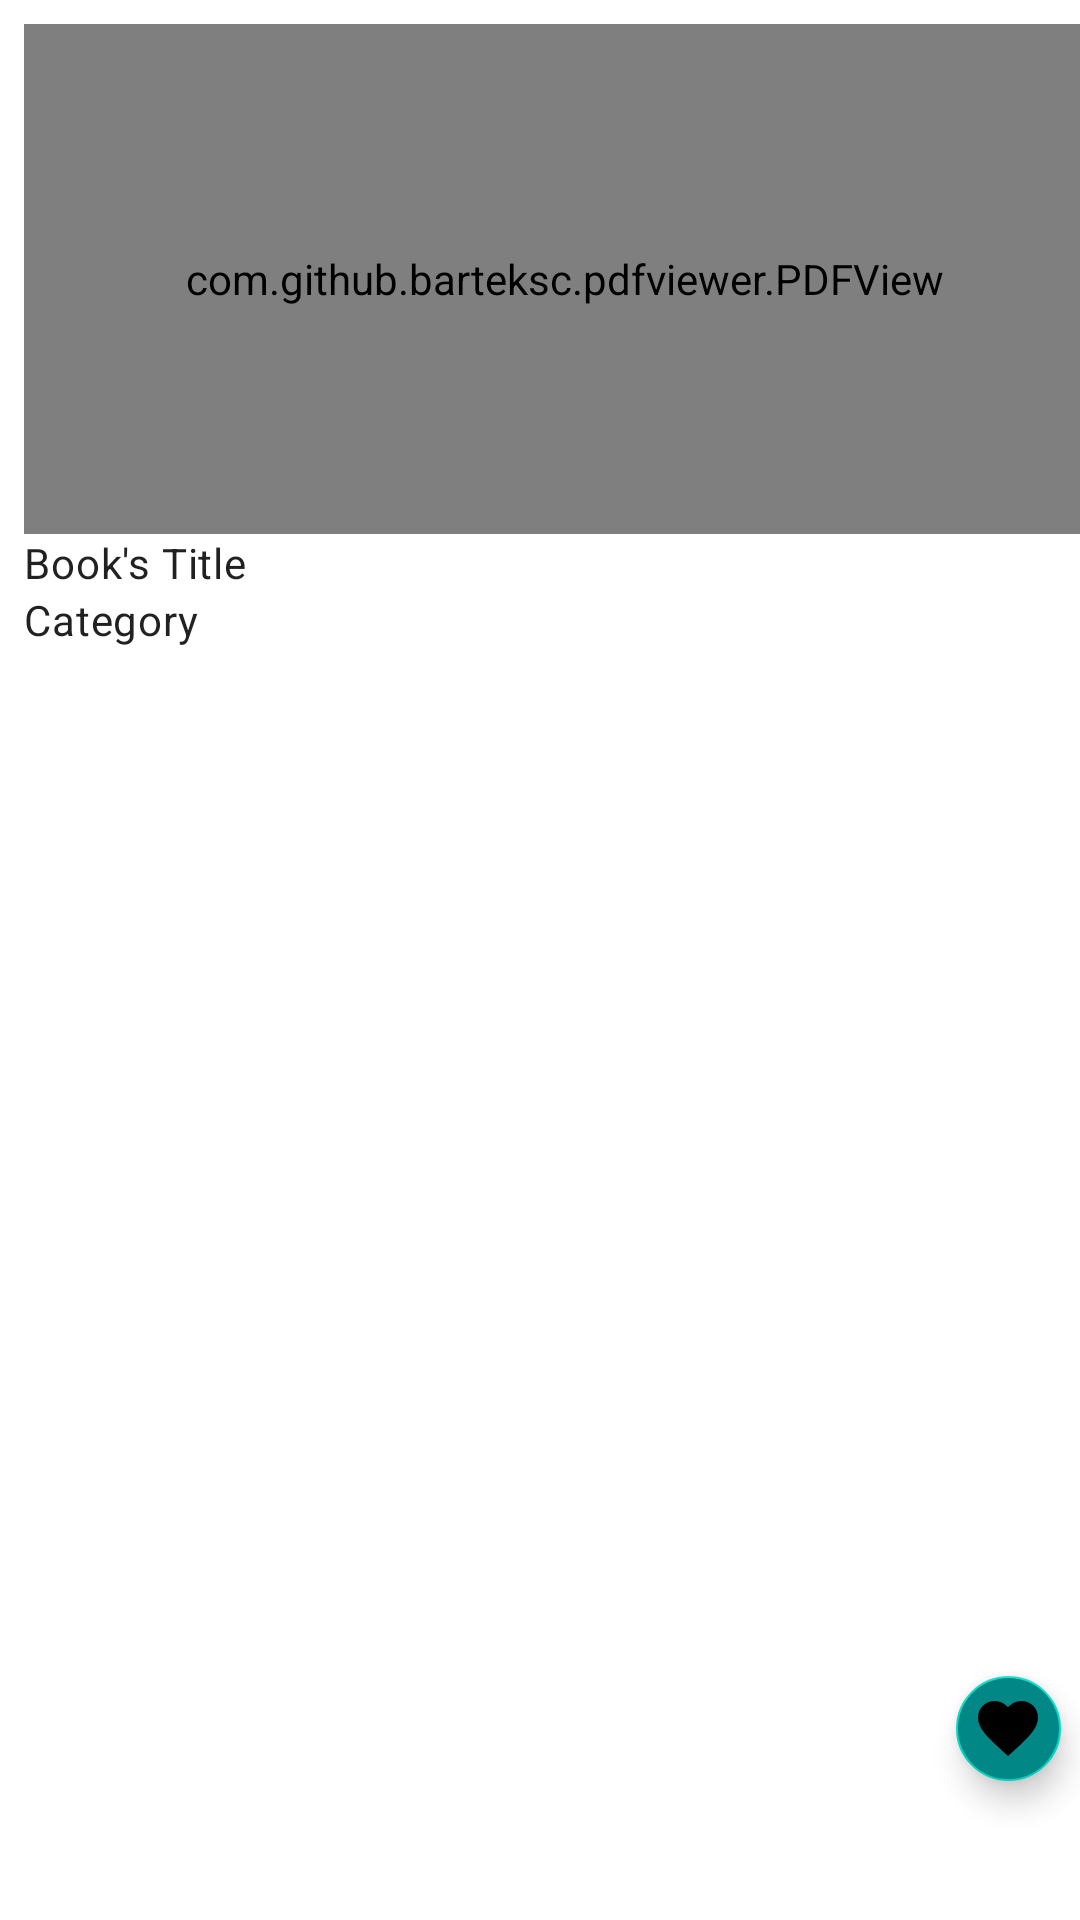

Point at icon controls on the screen. Image size 1080×1920, points as (x=x, y=y).
full heart: (x=1009, y=1736)
